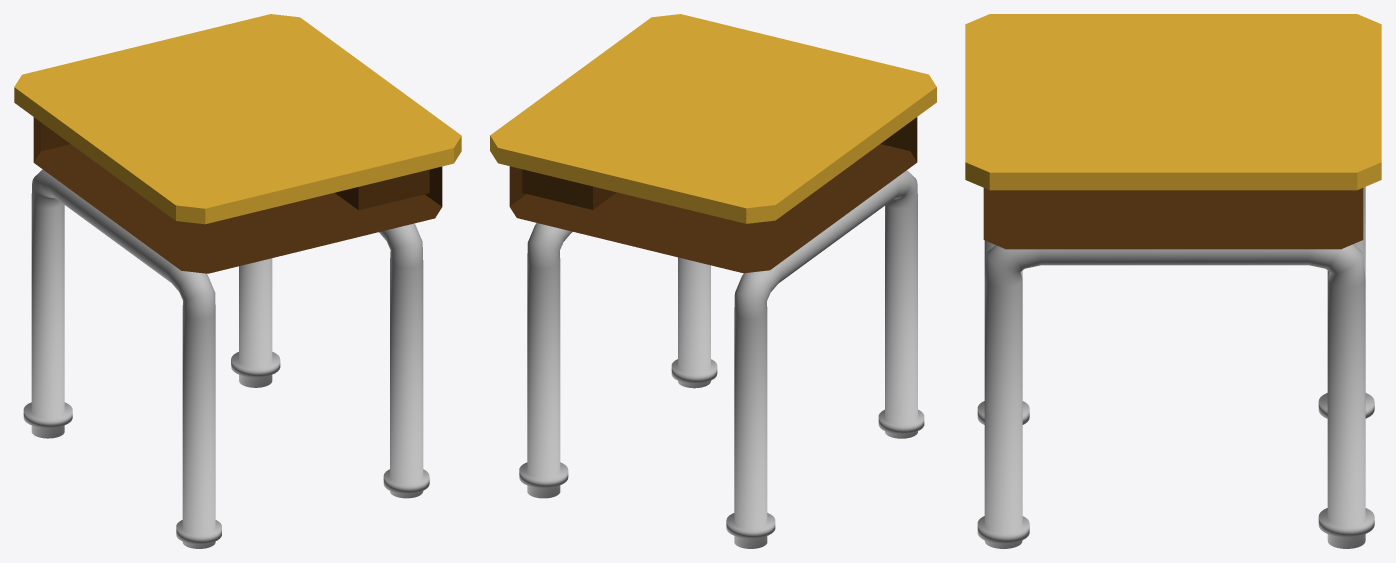
Rendered from basic_chair.fbx.
The picture shows the model from 3 angles, left to right: view 1: azimuth 30°, elevation 25°; view 2: azimuth 150°, elevation 25°; view 3: azimuth 270°, elevation 25°; orthographic projection. The views are drawn at different scales.
Visible parts, largest first — view 1: Cube.015; view 2: Cube.015; view 3: Cube.015.
Part boxes in pixels (x1,y1,x2,y2): Cube.015: (14, 14, 461, 548); Cube.015: (490, 14, 936, 548); Cube.015: (965, 14, 1381, 548).
Bounding box in the file's own units: 599 × 697 × 664.
